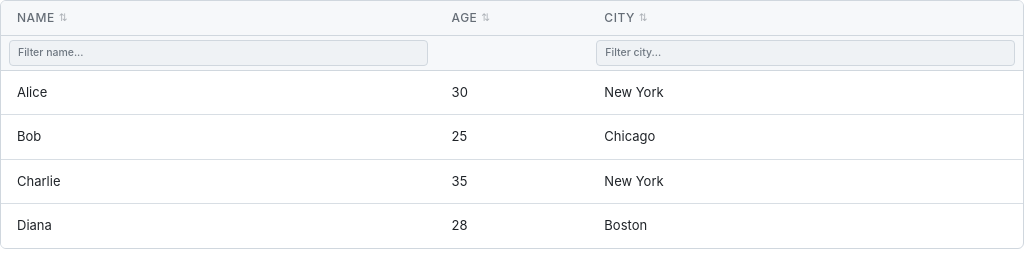
Test: DataTable › shows sort direction indicators
The image size is (1024, 266).
Click the column heading "Name". click: {"x": 218, "y": 18}
box: top-left (1, 1), bottom-right (436, 36)
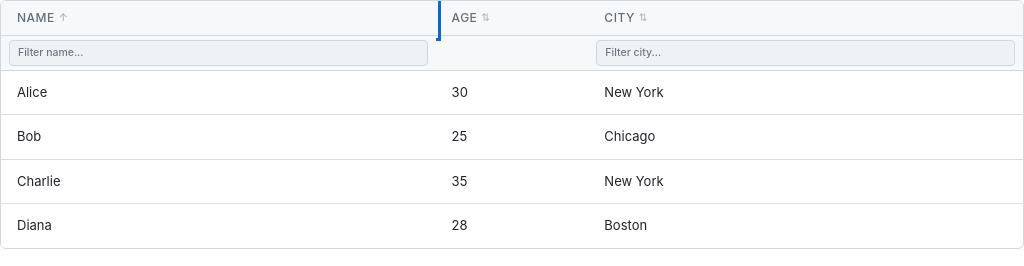
Expected: the column heading "Name" shows "↑", top-left (59, 11), bottom-right (68, 24)
Click the column heading "Name". click: {"x": 218, "y": 18}
box: top-left (1, 1), bottom-right (436, 36)
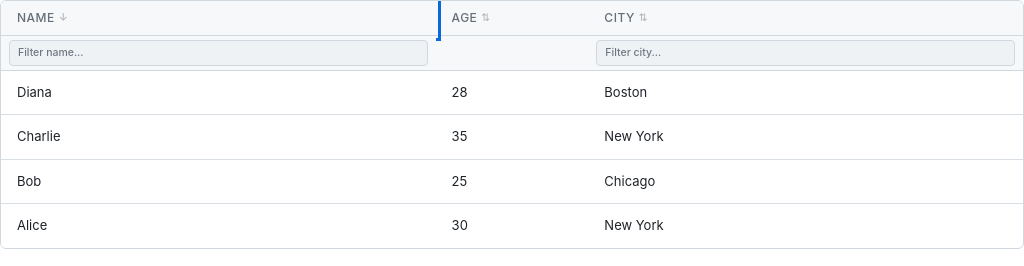
Expected: the column heading "Name" shows "↓", top-left (59, 11), bottom-right (68, 24)
